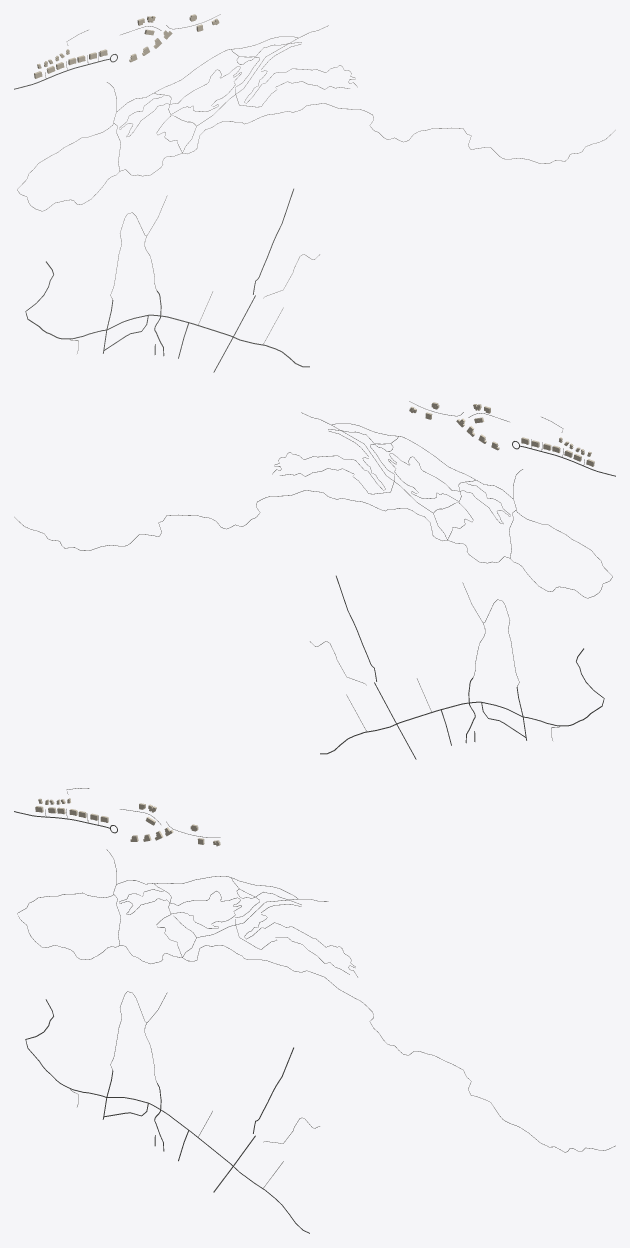
File: historic-palestine-10_26_3518_3209.glb
The picture shows the model from 3 angles, top to bottom: view 1: azimuth 30°, elevation 25°; view 2: azimuth 150°, elevation 25°; view 3: azimuth 330°, elevation 25°; orthographic projection.
Visible parts, largest first — view 1: Road .007; view 2: Road .007; view 3: Road .007.
Boxes of the visible parts, x1,y1,x2,y2 form: Road .007: (17, 93, 615, 211); Road .007: (14, 480, 612, 598); Road .007: (17, 880, 615, 1152).
Size of the model in its own units: 2069 by 1286 by 8.7.
